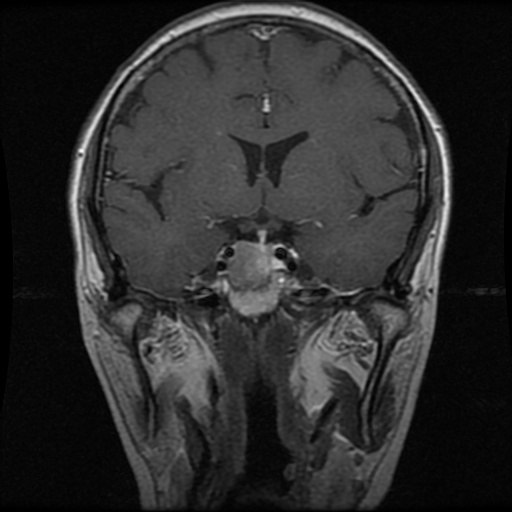pituitary: (226, 241, 272, 291)
